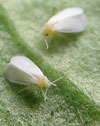whitefly: (5, 55, 61, 104), (31, 6, 88, 49)
